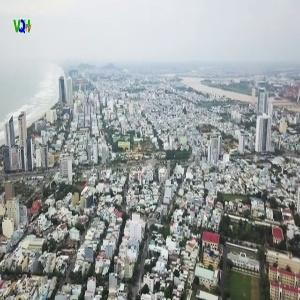drone: (191, 231, 236, 276)
